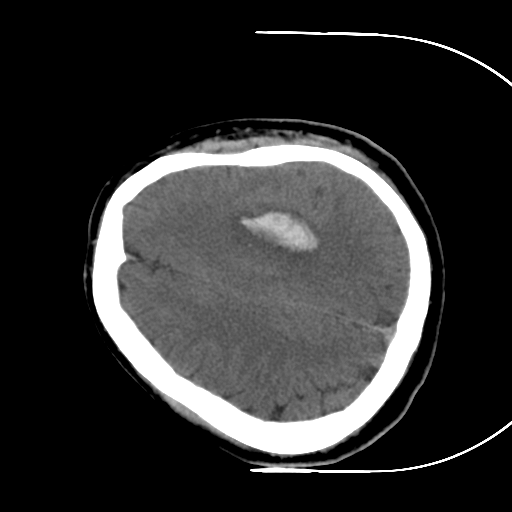a: (215, 193, 337, 277)
